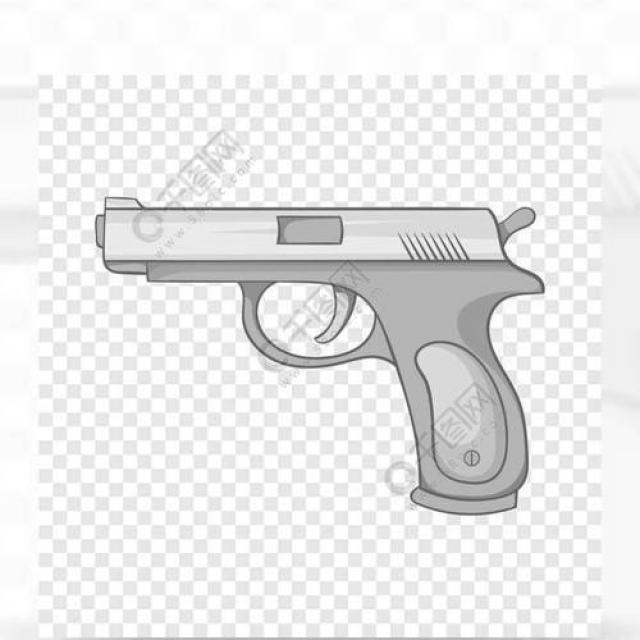gun: (93, 194, 546, 516)
